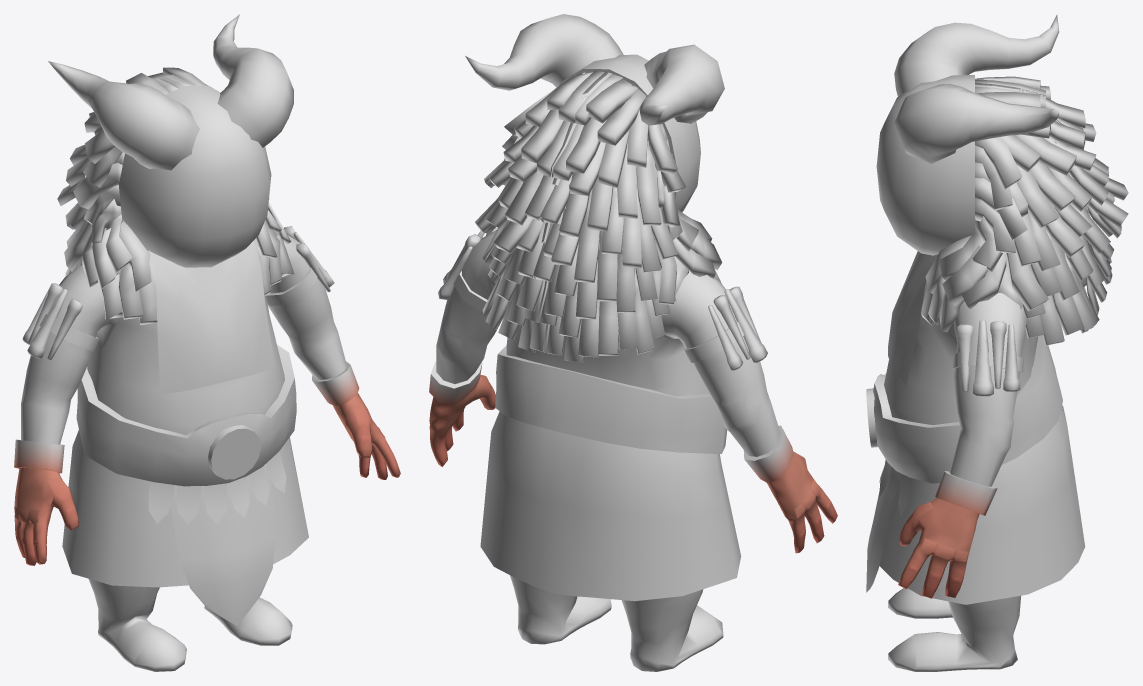
The model's file is MainCharacter (2).fbx.
3 renders of one model, left to right at view 1: azimuth 30°, elevation 25°; view 2: azimuth 150°, elevation 25°; view 3: azimuth 270°, elevation 25°, orthographic. The views are drawn at different scales.
Parts seen in each view (by area): view 1: Body.001; view 2: Body.001; view 3: Body.001.
Part boxes in pixels (left/top/right/bottom): Body.001: left=14, top=14, right=400, bottom=671; Body.001: left=429, top=14, right=837, bottom=671; Body.001: left=866, top=15, right=1128, bottom=671.
Bounding box in the file's own units: 119 × 178 × 73.38.
